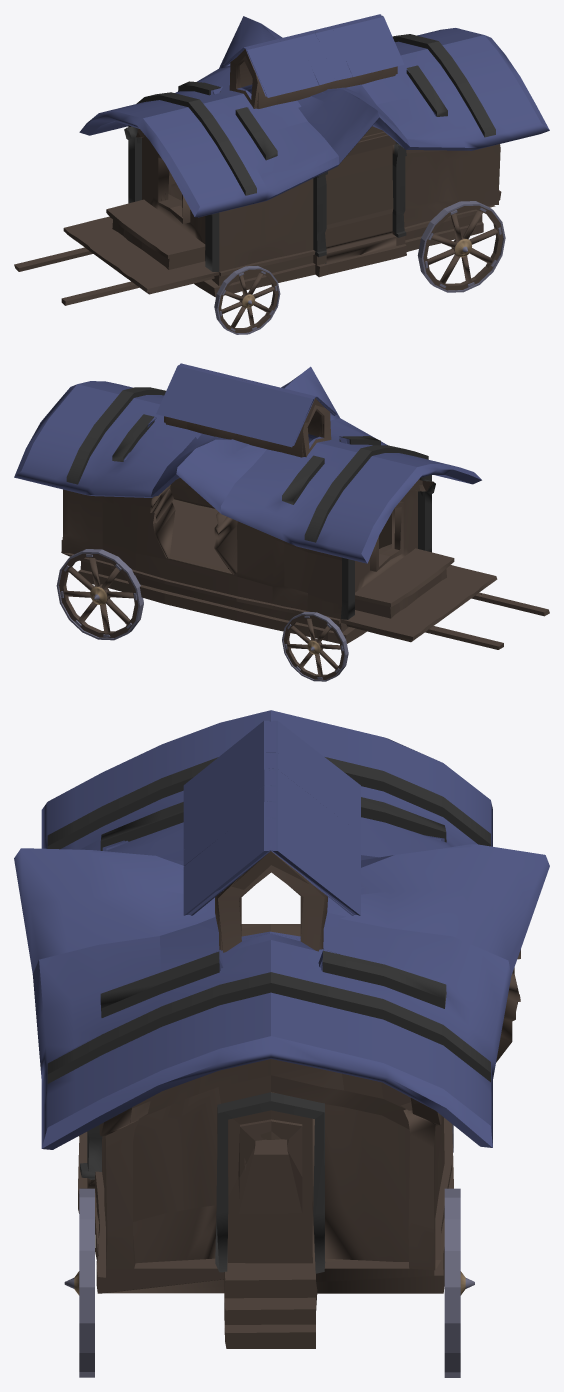
File: Cart 1.fbx
3 views of the same model, one above another, from view 1: azimuth 30°, elevation 25°; view 2: azimuth 150°, elevation 25°; view 3: azimuth 270°, elevation 25° (orthographic). The views are drawn at different scales.
Parts seen in each view (by area): view 1: Cart.001; view 2: Cart.001; view 3: Cart.001.
Part boxes in pixels (x1,y1,x2,y2): Cart.001: [14, 14, 549, 334]; Cart.001: [14, 363, 549, 681]; Cart.001: [14, 710, 549, 1377].
Size of the model in its own units: 1876 by 983 by 981.
